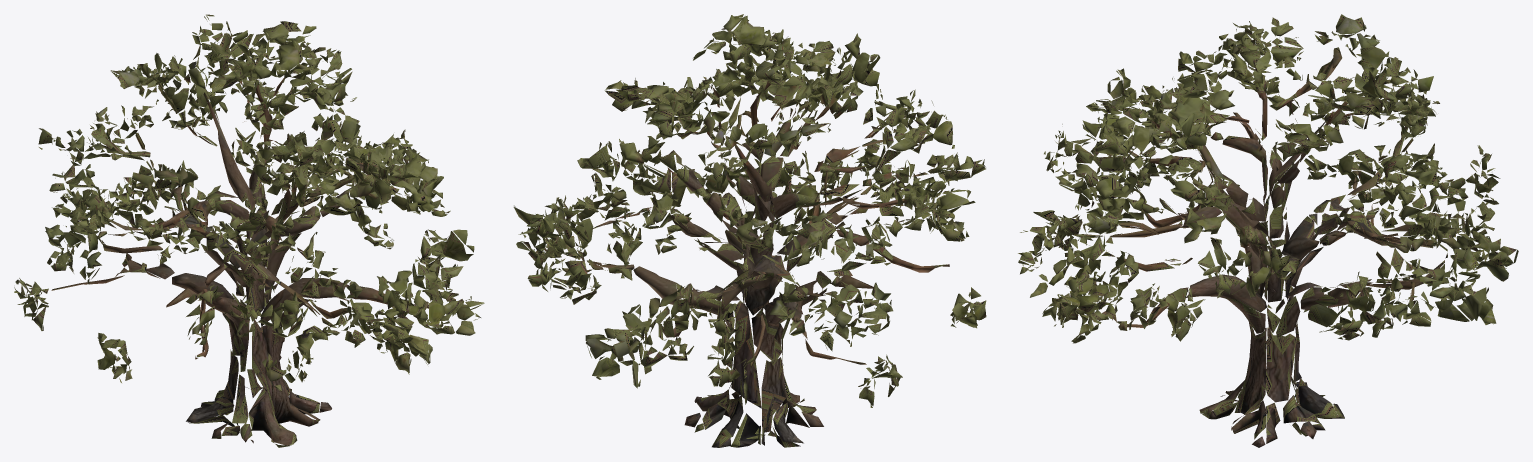
File: tree.glb
3 renders of one model, left to right at view 1: azimuth 30°, elevation 25°; view 2: azimuth 150°, elevation 25°; view 3: azimuth 270°, elevation 25°, orthographic. The views are drawn at different scales.
Bounding box in the file's own units: 0.8932 × 0.8564 × 1.
1 material, 1 textured.
